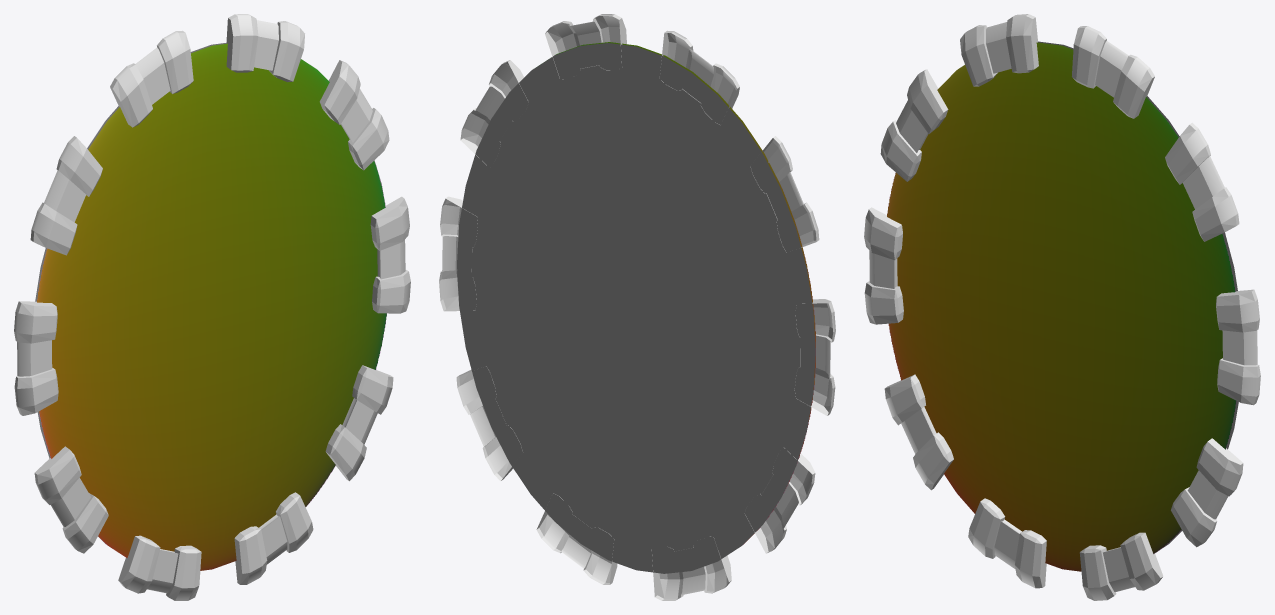
File: OvalPortal.FBX
3 renders of one model, left to right at view 1: azimuth 30°, elevation 25°; view 2: azimuth 150°, elevation 25°; view 3: azimuth 330°, elevation 25°, orthographic.
Visible parts, largest first — view 1: Cylinder001, Box001; view 2: Cylinder001, Box001; view 3: Cylinder001, Box001.
Boxes of the visible parts, x1,y1,x2,y2 form: Cylinder001: (35, 42, 386, 570); Box001: (14, 14, 410, 600); Cylinder001: (457, 42, 815, 573); Box001: (439, 14, 835, 600); Cylinder001: (887, 41, 1238, 571); Box001: (864, 14, 1260, 600).
Bounding box in the file's own units: 85.62 × 119 × 2.75.
Materials: 2 (1 with a texture image).
